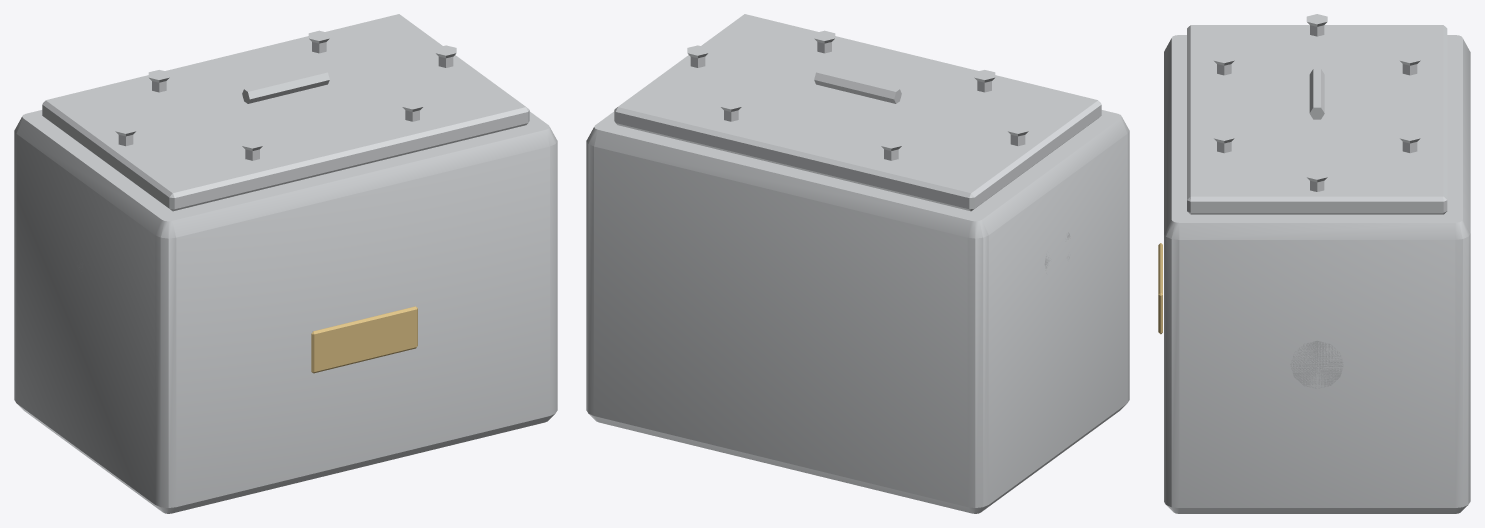
The model's file is restaurant-kitchen-and-dining-grease-trap-23e397ac__16476.glb.
3 views of the same model, side by side, from view 1: azimuth 30°, elevation 25°; view 2: azimuth 150°, elevation 25°; view 3: azimuth 270°, elevation 25° (orthographic).
Parts seen in each view (by area): view 1: grease-trap, access-lid; view 2: grease-trap, access-lid; view 3: grease-trap, access-lid.
Part boxes in pixels (x1,y1,x2,y2): grease-trap: (14,110,557,513); access-lid: (42,14,529,211); grease-trap: (586,110,1129,513); access-lid: (614,14,1101,211); grease-trap: (1158,35,1470,513); access-lid: (1187,14,1447,214).
Bounding box in the file's own units: 0.6 × 0.4787 × 0.407.
